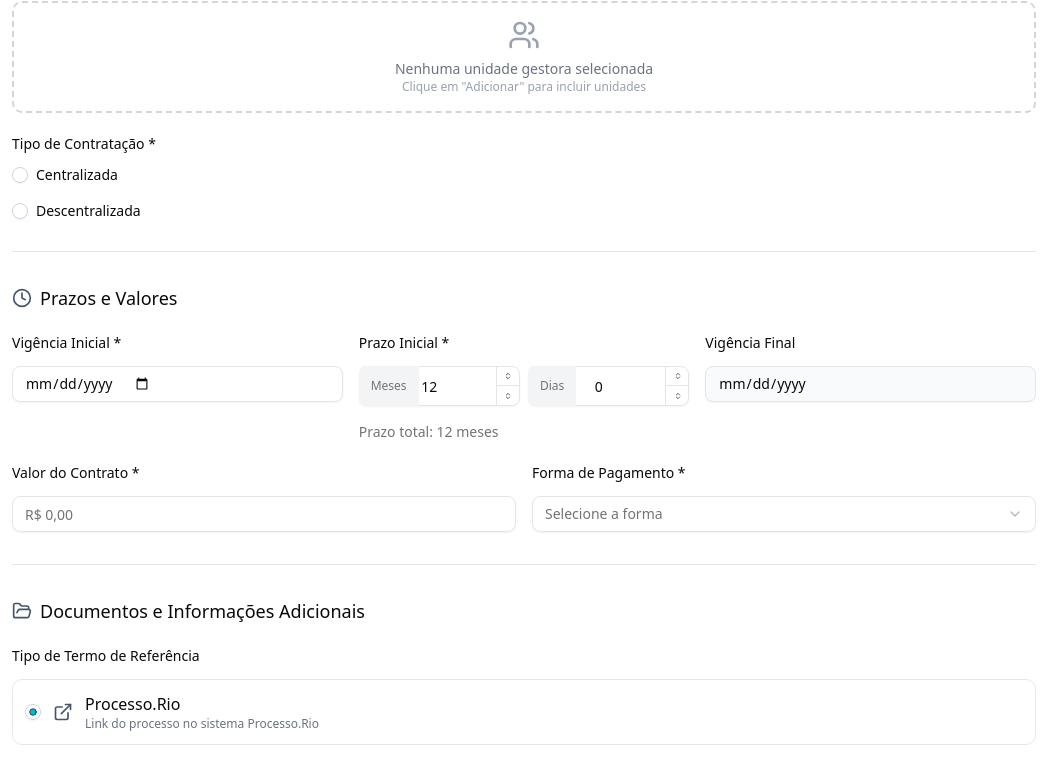
Scenario: ContratoForm › deve calcular vigência final automaticamente quando data inicial e prazo são preenchidos
The width and height of the screenshot is (1048, 768).
(page scrolled)
Step 1. Type "2024-01-01" into the date field labelled "Vigência Inicial *" → coordinates (177, 384), box [12,366,343,402]
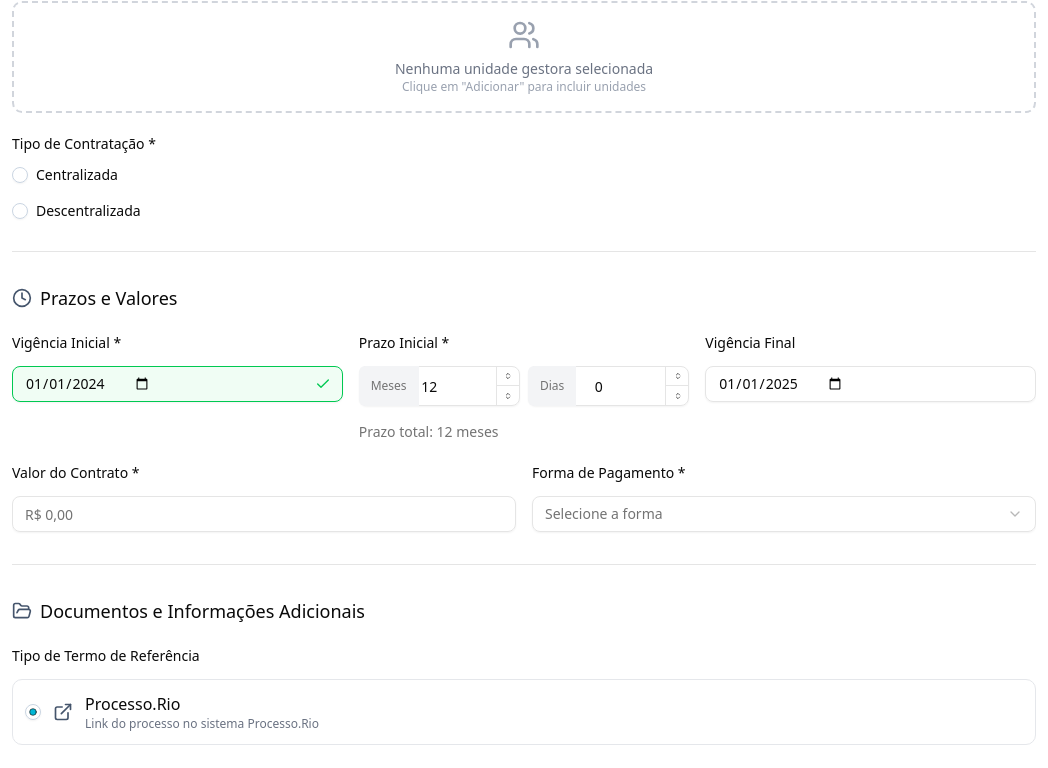
Now the date field labelled "Vigência Final" holds "2025-01-01", box [705,366,1036,402]
